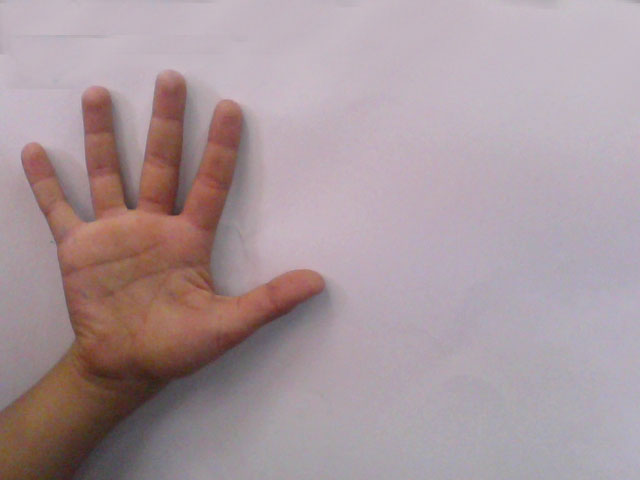hand: (16, 58, 340, 382)
